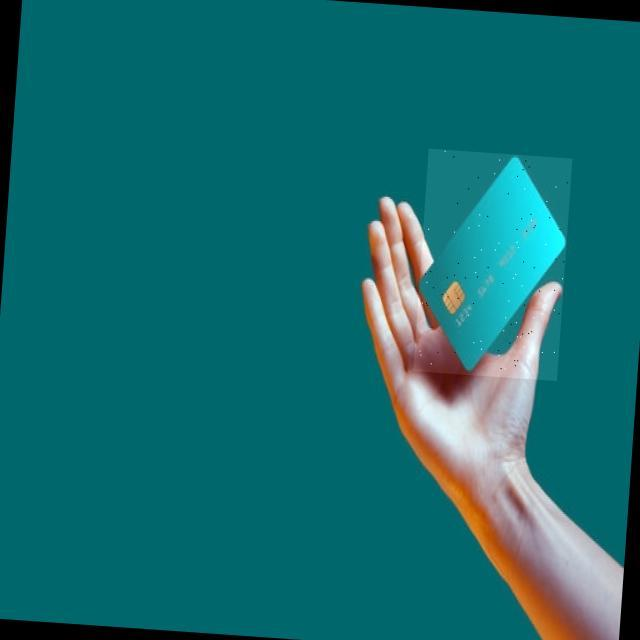payment_card: (417, 147, 571, 380)
